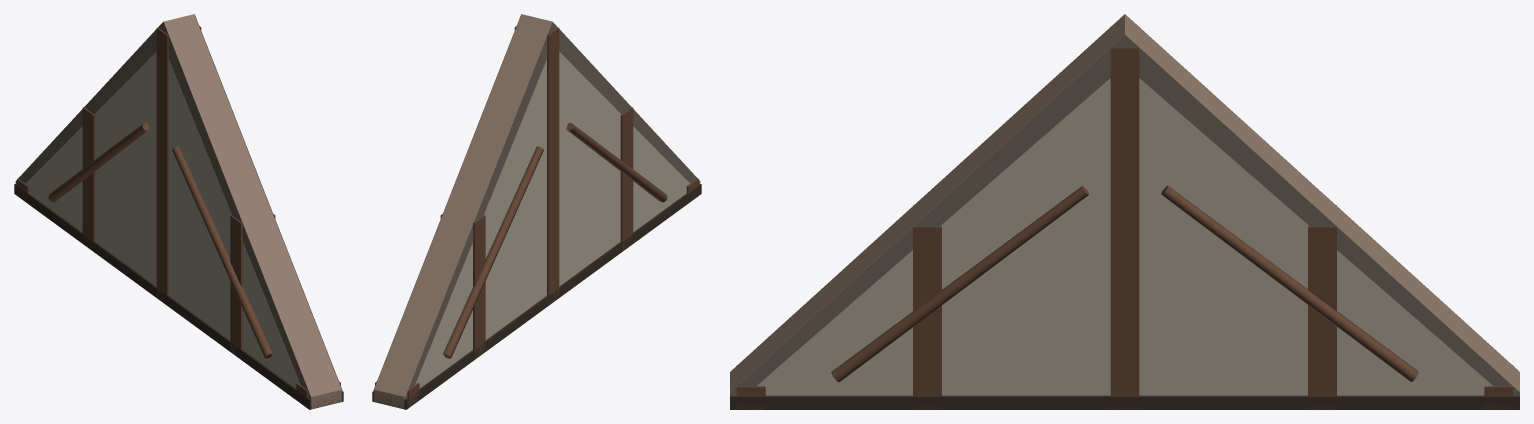
Rendered from Wall_GableRidgeFill_45_Right.glb.
3 views of the same model, side by side, from view 1: azimuth 30°, elevation 25°; view 2: azimuth 150°, elevation 25°; view 3: azimuth 270°, elevation 25° (orthographic). The views are drawn at different scales.
Visible parts, largest first — view 1: _MeshInstance3D_4036, _MeshInstance3D_4037, _MeshInstance3D_4040, _MeshInstance3D_4045, _MeshInstance3D_4039, _MeshInstance3D_4041, _MeshInstance3D_4043; view 2: _MeshInstance3D_4036, _MeshInstance3D_4037, _MeshInstance3D_4040, _MeshInstance3D_4043, _MeshInstance3D_4041, _MeshInstance3D_4039, _MeshInstance3D_4045; view 3: _MeshInstance3D_4036, _MeshInstance3D_4037, _MeshInstance3D_4040, _MeshInstance3D_4039, _MeshInstance3D_4041, _MeshInstance3D_4046, _MeshInstance3D_4044.
Part boxes in pixels (<box>): _MeshInstance3D_4036: <box>15,14,342,409</box>; _MeshInstance3D_4037: <box>14,184,343,409</box>; _MeshInstance3D_4040: <box>156,26,201,302</box>; _MeshInstance3D_4045: <box>172,146,272,358</box>; _MeshInstance3D_4039: <box>82,107,95,250</box>; _MeshInstance3D_4041: <box>230,214,275,353</box>; _MeshInstance3D_4043: <box>48,122,149,202</box>; _MeshInstance3D_4036: <box>373,14,700,409</box>; _MeshInstance3D_4037: <box>372,184,701,409</box>; _MeshInstance3D_4040: <box>514,26,559,301</box>; _MeshInstance3D_4043: <box>443,146,543,358</box>; _MeshInstance3D_4041: <box>620,107,633,251</box>; _MeshInstance3D_4039: <box>440,214,485,359</box>; _MeshInstance3D_4045: <box>566,123,667,202</box>; _MeshInstance3D_4036: <box>730,14,1519,395</box>; _MeshInstance3D_4037: <box>730,395,1519,409</box>; _MeshInstance3D_4040: <box>1110,26,1139,409</box>; _MeshInstance3D_4039: <box>1308,205,1336,409</box>; _MeshInstance3D_4041: <box>913,205,941,409</box>; _MeshInstance3D_4046: <box>831,186,1088,382</box>; _MeshInstance3D_4044: <box>1161,185,1418,381</box>.
Size of the model in its own units: 0.2607 by 1.57 by 3.
